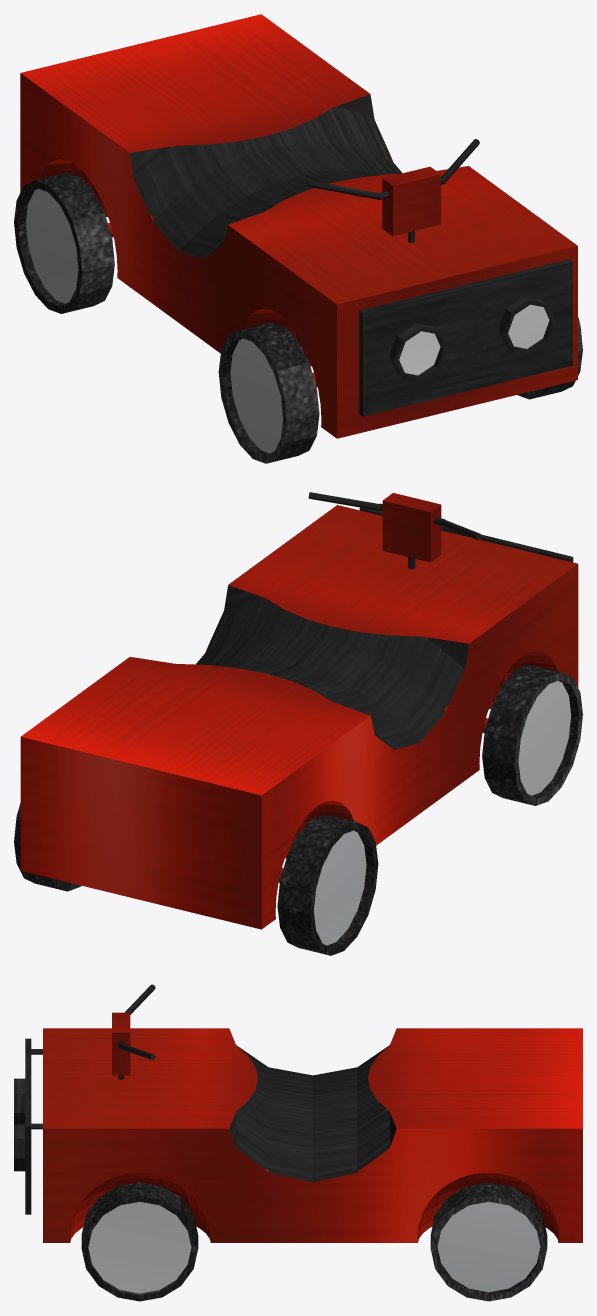
The model's file is cuatri.fbx.
3 views of the same model, one above another, from view 1: azimuth 30°, elevation 25°; view 2: azimuth 150°, elevation 25°; view 3: azimuth 270°, elevation 25° (orthographic). The views are drawn at different scales.
Visible parts, largest first — view 1: Cylinder.005; view 2: Cylinder.005; view 3: Cylinder.005.
Boxes of the visible parts, x1=… form: Cylinder.005: x1=14, y1=14, x2=582, y2=463; Cylinder.005: x1=14, y1=492, x2=582, y2=955; Cylinder.005: x1=14, y1=984, x2=582, y2=1301.
Size of the model in its own units: 161 by 134 by 314.
4 materials, 4 textured.
